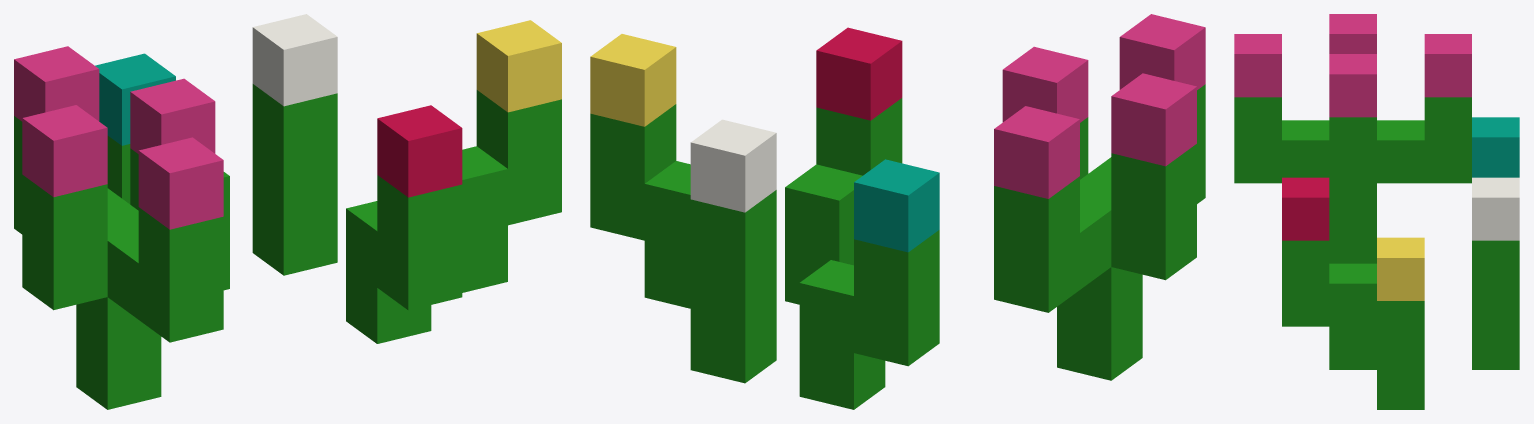
Rendered from Flores playa.fbx.
3 views of the same model, side by side, from view 1: azimuth 30°, elevation 25°; view 2: azimuth 150°, elevation 25°; view 3: azimuth 270°, elevation 25° (orthographic). The views are drawn at different scales.
Visible parts, largest first — view 1: FloresPlaya; view 2: FloresPlaya; view 3: FloresPlaya.
Part boxes in pixels (left/top/right/bottom): FloresPlaya: left=14, top=14, right=561, bottom=409; FloresPlaya: left=590, top=14, right=1205, bottom=409; FloresPlaya: left=1234, top=14, right=1519, bottom=409.
Bounding box in the file's own units: 2 × 1 × 1.2.
Materials: 1 (1 with a texture image).
